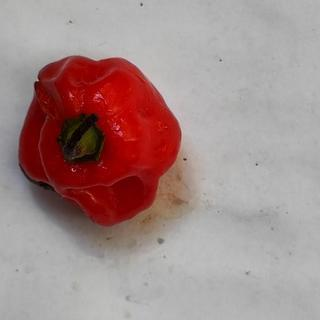Grade-B: (13, 49, 183, 223)
